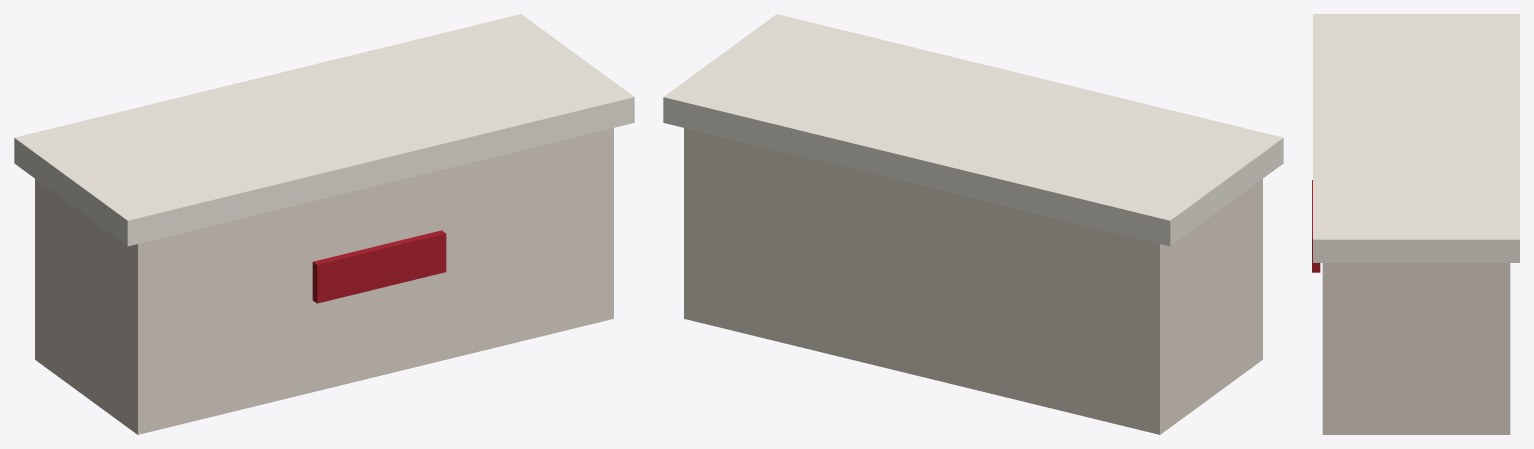
Rendered from interior_counter.glb.
The picture shows the model from 3 angles, left to right: view 1: azimuth 30°, elevation 25°; view 2: azimuth 150°, elevation 25°; view 3: azimuth 270°, elevation 25°; orthographic projection. The views are drawn at different scales.
Parts seen in each view (by area): view 1: counter, top, front_logo; view 2: counter, top; view 3: top, counter.
Boxes of the visible parts, x1,y1,x2,y2 form: counter: [35, 128, 613, 434]; top: [14, 14, 634, 246]; front_logo: [312, 230, 446, 303]; counter: [684, 128, 1262, 434]; top: [663, 14, 1283, 246]; top: [1313, 14, 1519, 262]; counter: [1322, 263, 1510, 434].
Size of the model in its own units: 1.65 by 0.69 by 0.6425.
